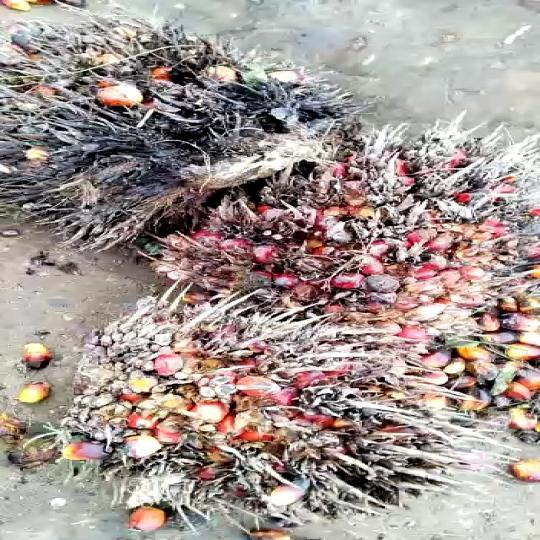terlalu masak: (70, 297, 458, 523), (0, 19, 353, 246), (144, 126, 540, 321)
